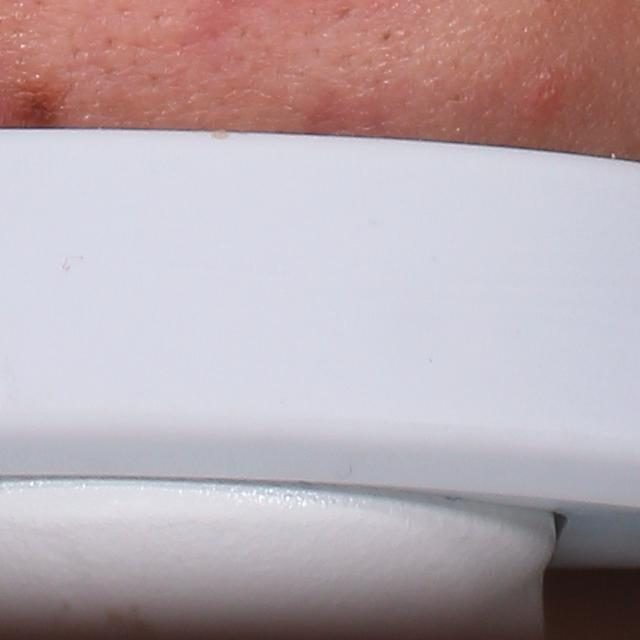papule: (525, 76, 563, 116)
